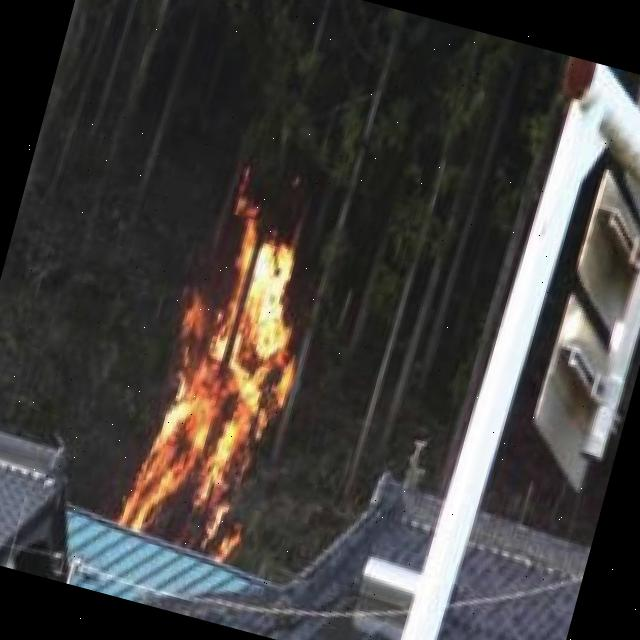fire: (106, 173, 346, 572)
